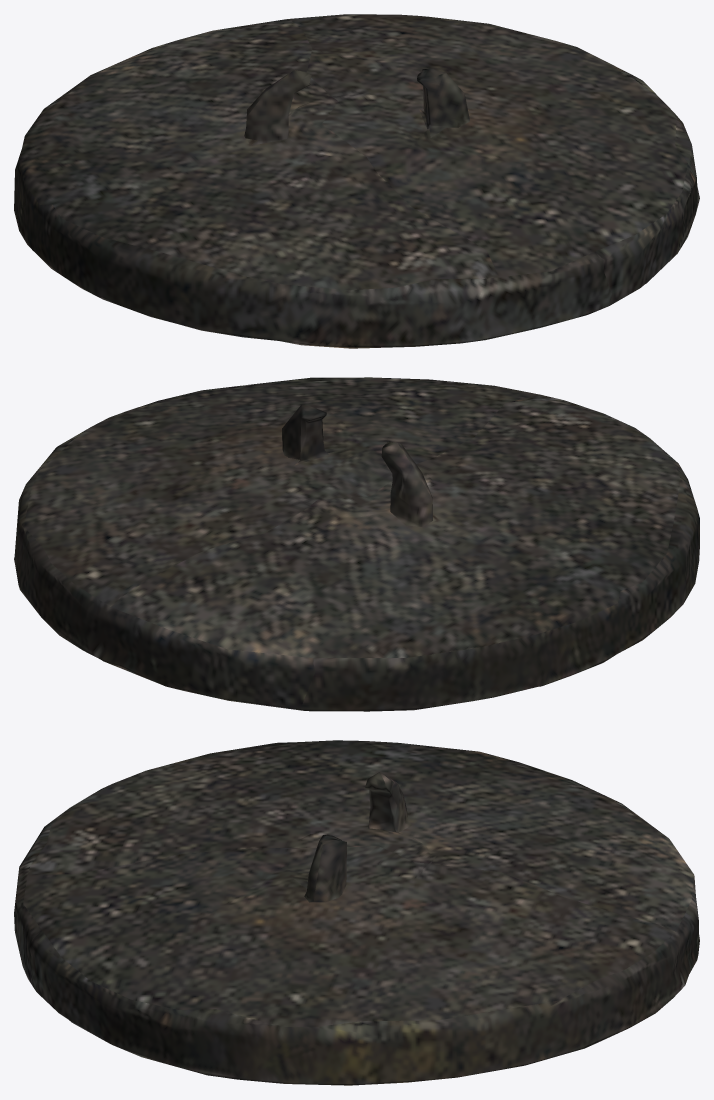
The model's file is SM_Urb_Str_Bin_Trash_Metal_Worn_01_A.gltf.
3 views of the same model, one above another, from view 1: azimuth 30°, elevation 25°; view 2: azimuth 150°, elevation 25°; view 3: azimuth 270°, elevation 25° (orthographic).
Visible parts, largest first — view 1: SM_Urb_Str_Bin_Trash_Metal_Worn_01_A; view 2: SM_Urb_Str_Bin_Trash_Metal_Worn_01_A; view 3: SM_Urb_Str_Bin_Trash_Metal_Worn_01_A.
Part boxes in pixels (<box>): SM_Urb_Str_Bin_Trash_Metal_Worn_01_A: <box>14,14,699,348</box>; SM_Urb_Str_Bin_Trash_Metal_Worn_01_A: <box>14,377,699,711</box>; SM_Urb_Str_Bin_Trash_Metal_Worn_01_A: <box>14,740,699,1085</box>.
Size of the model in its own units: 0.4401 by 0.1069 by 0.4369.
1 material, 1 textured.
